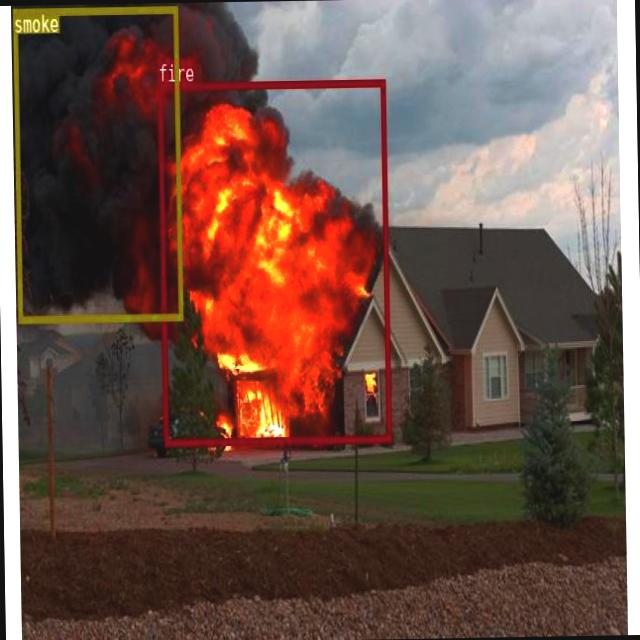fire: (157, 78, 390, 445)
smoke: (12, 5, 181, 322)
